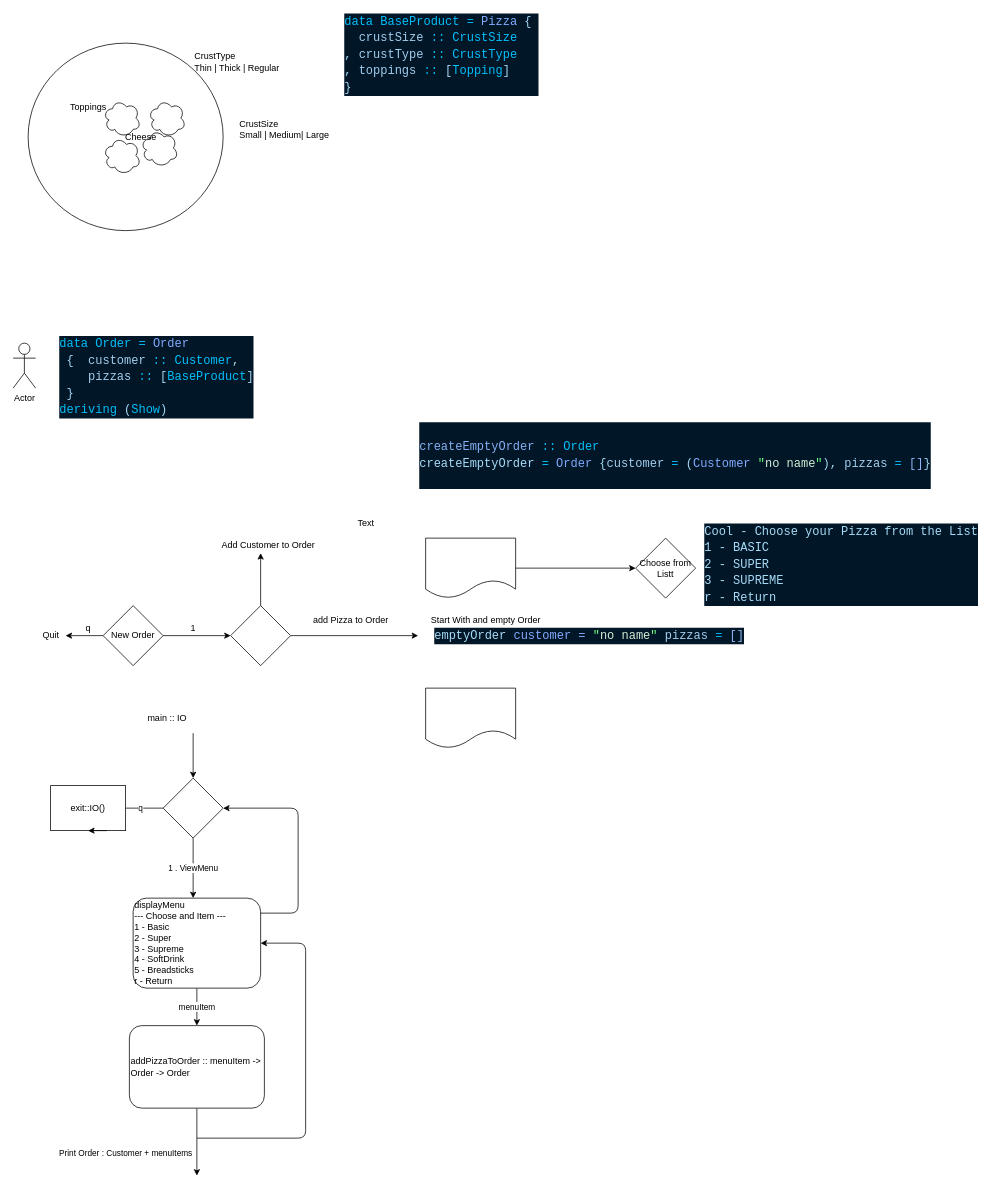
Some shapes in this 1001 by 1195 pixel diagram are drawn without their labels. Here are the shapes that lost their labels. From the top down, the box of each, then its label:
(425, 537, 516, 598): addPizzaToOrder
(425, 687, 516, 748): addCustomerToOrder
(162, 777, 223, 838): Welcome
